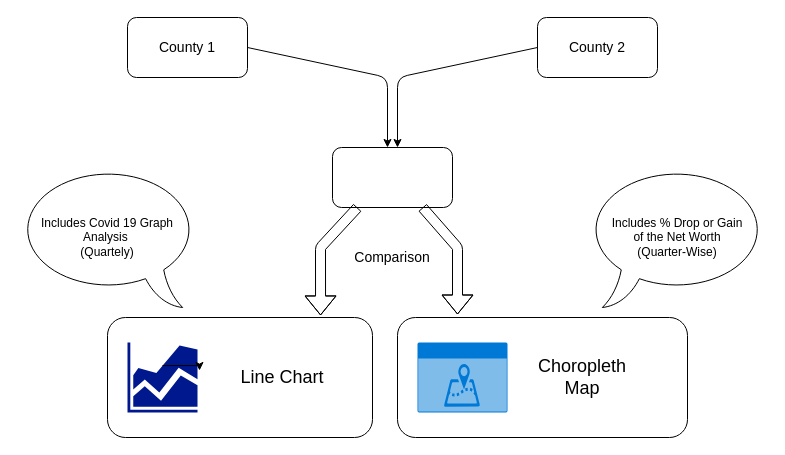
Some shapes in this 785 by 455 pixel diagram are drawn without their labels. The centre of each missing label's shape, as x and y in pixels:
"Industry Sector" goes at [392,177].
"Map" goes at [462,377].
